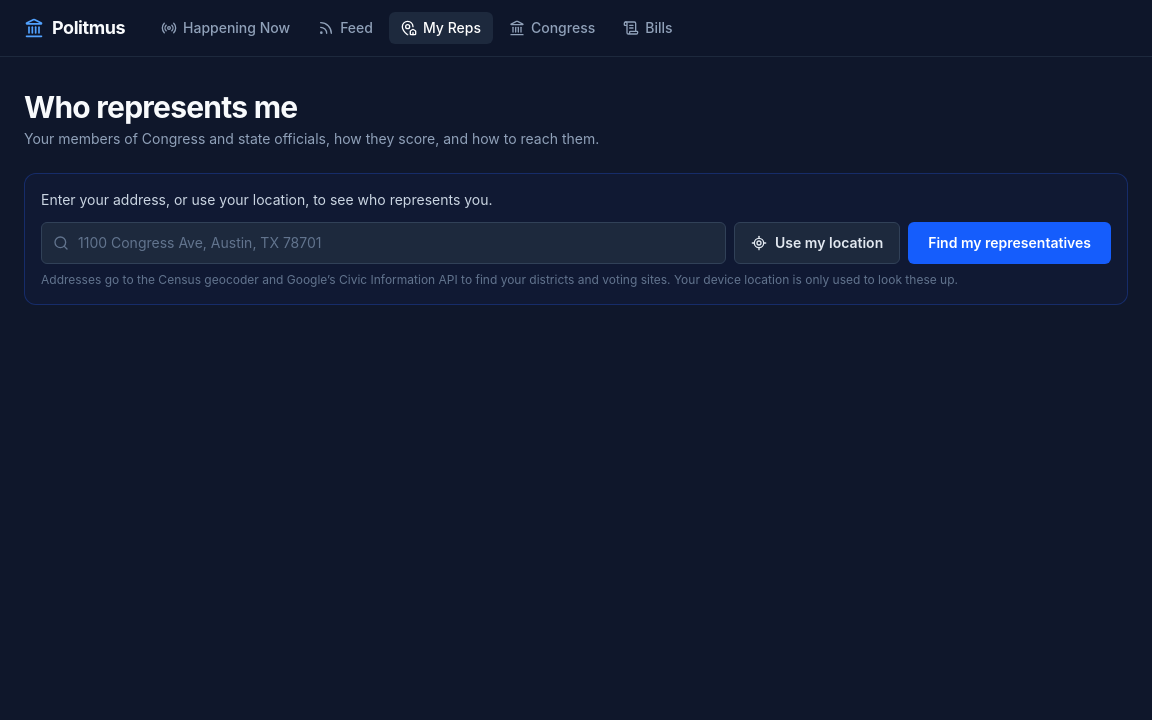
device location › looks up by rounded coordinates and shows the nearby address
Step 1. Click the button "Use my location" → (817, 243), box [734,222,900,264]
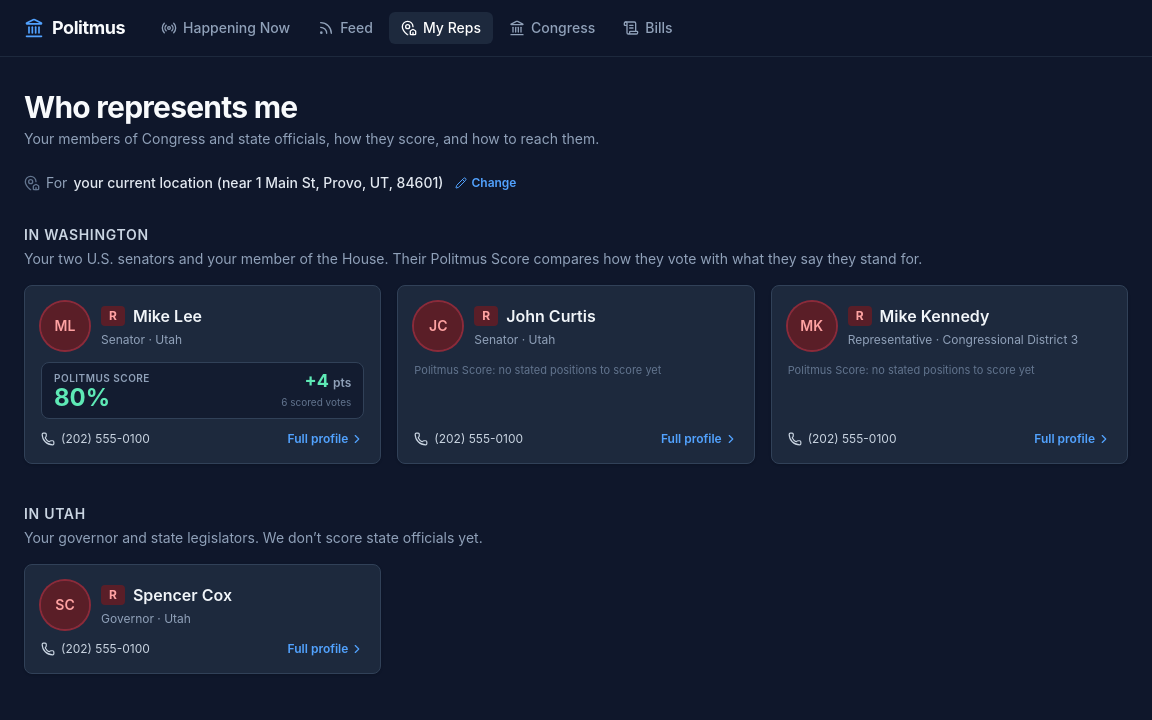
Expected: the text "Mike Lee" is shown, [133,304,202,328]
Expected: the text "your current location (near 1 Main St, Provo, UT, 84601)" is shown, [73,173,443,193]
